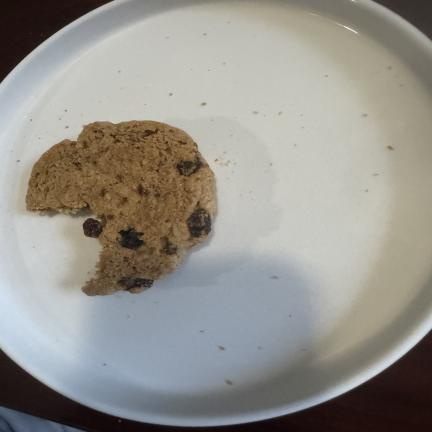cookie: (26, 121, 215, 295)
